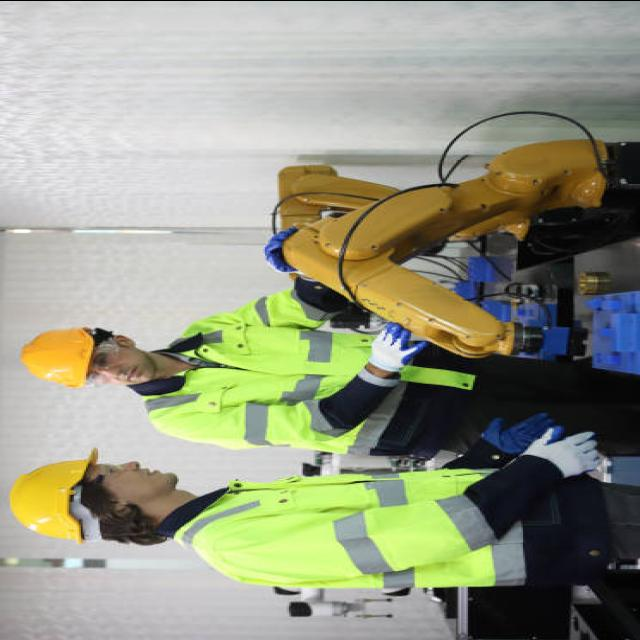Robotic-arm: (267, 126, 636, 356)
